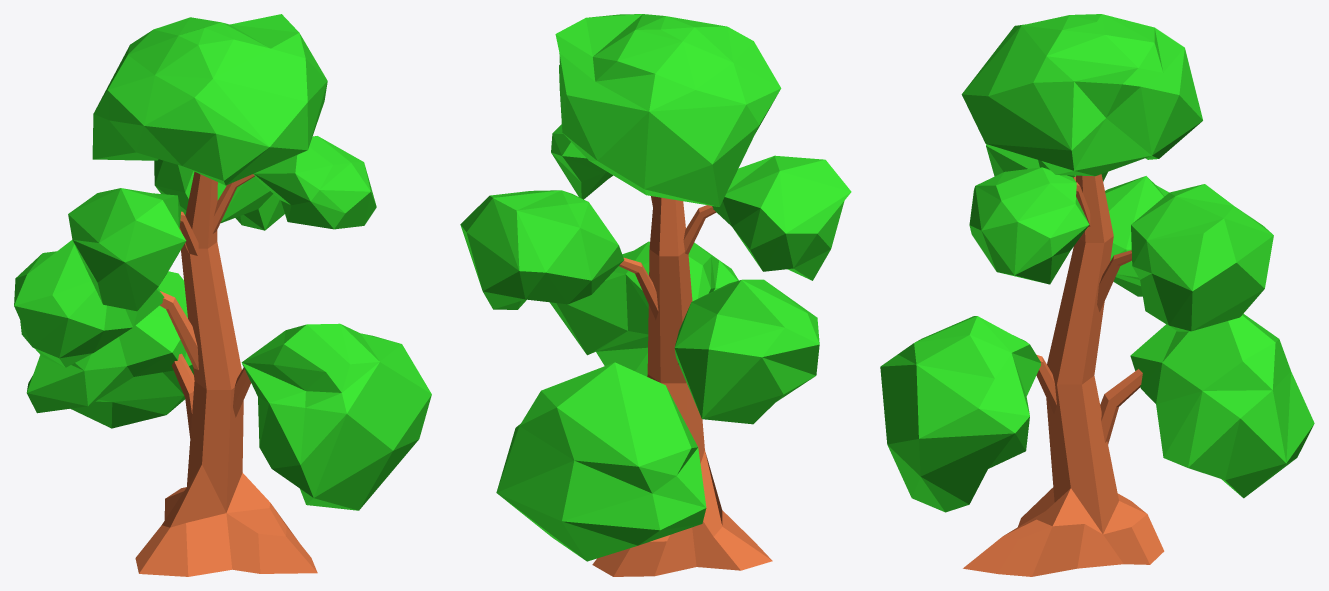
The model's file is Tree_Birch.fbx.
The picture shows the model from 3 angles, left to right: view 1: azimuth 30°, elevation 25°; view 2: azimuth 150°, elevation 25°; view 3: azimuth 270°, elevation 25°; orthographic projection. The views are drawn at different scales.
Parts seen in each view (by area): view 1: Sphere.001; view 2: Sphere.001; view 3: Sphere.001.
Boxes of the visible parts, left/top/right/bottom form: Sphere.001: left=14, top=14, right=431, bottom=576; Sphere.001: left=460, top=14, right=851, bottom=576; Sphere.001: left=880, top=14, right=1314, bottom=576.
Bounding box in the file's own units: 213 × 324 × 244.
